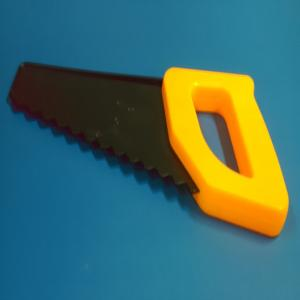serrote: (8, 59, 290, 233)
